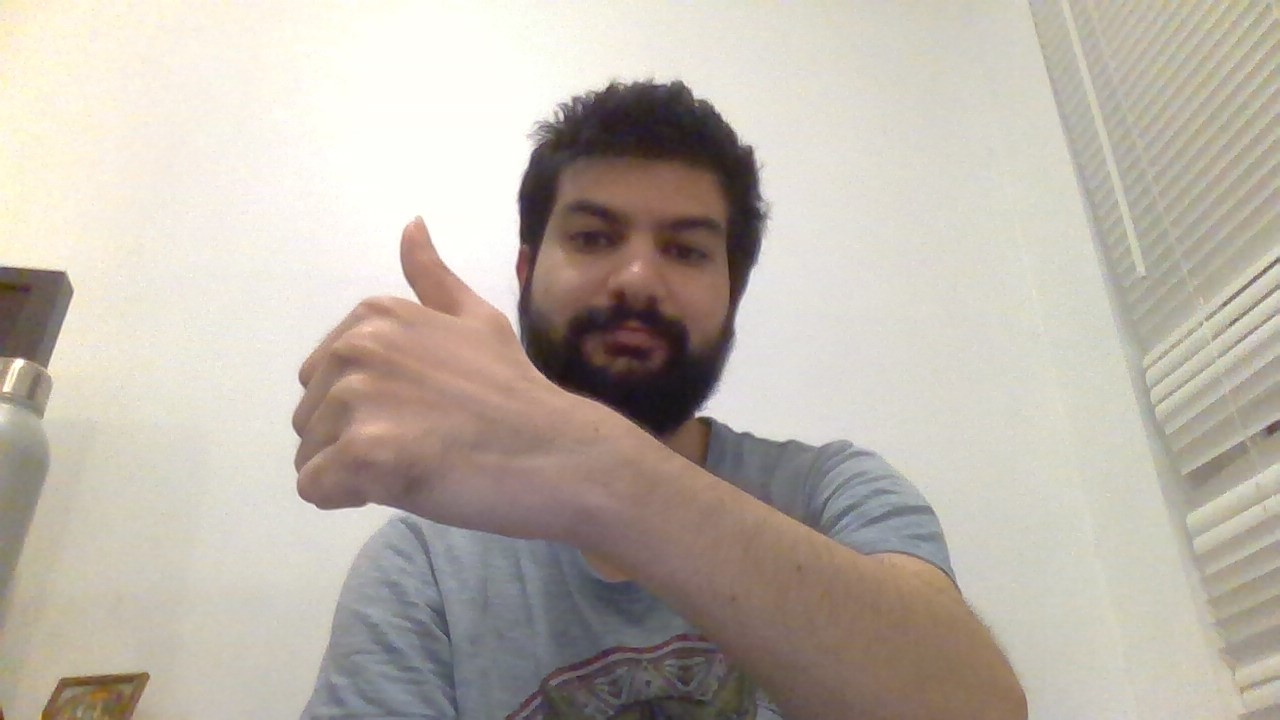up: (288, 202, 513, 529)
